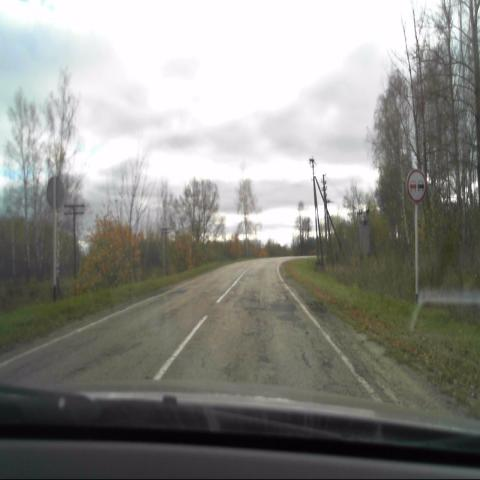3_20: (406, 166, 428, 202)
